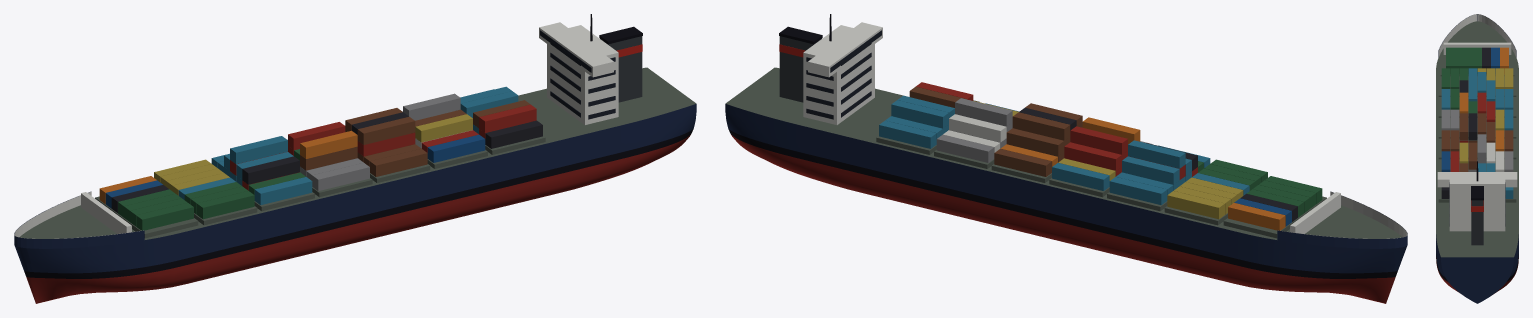
File: feeder.glb
The picture shows the model from 3 angles, left to right: view 1: azimuth 30°, elevation 25°; view 2: azimuth 150°, elevation 25°; view 3: azimuth 270°, elevation 25°; orthographic projection. The views are drawn at different scales.
Parts seen in each view (by area): view 1: feeder; view 2: feeder; view 3: feeder.
Boxes of the visible parts, left/top/right/bottom form: feeder: left=14, top=14, right=696, bottom=303; feeder: left=725, top=14, right=1407, bottom=303; feeder: left=1436, top=14, right=1518, bottom=303.
Bounding box in the file's own units: 155 × 34.75 × 23.
